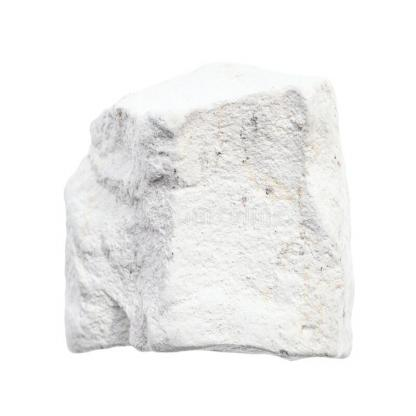Sedimentary_Chalk: (48, 53, 372, 359)
